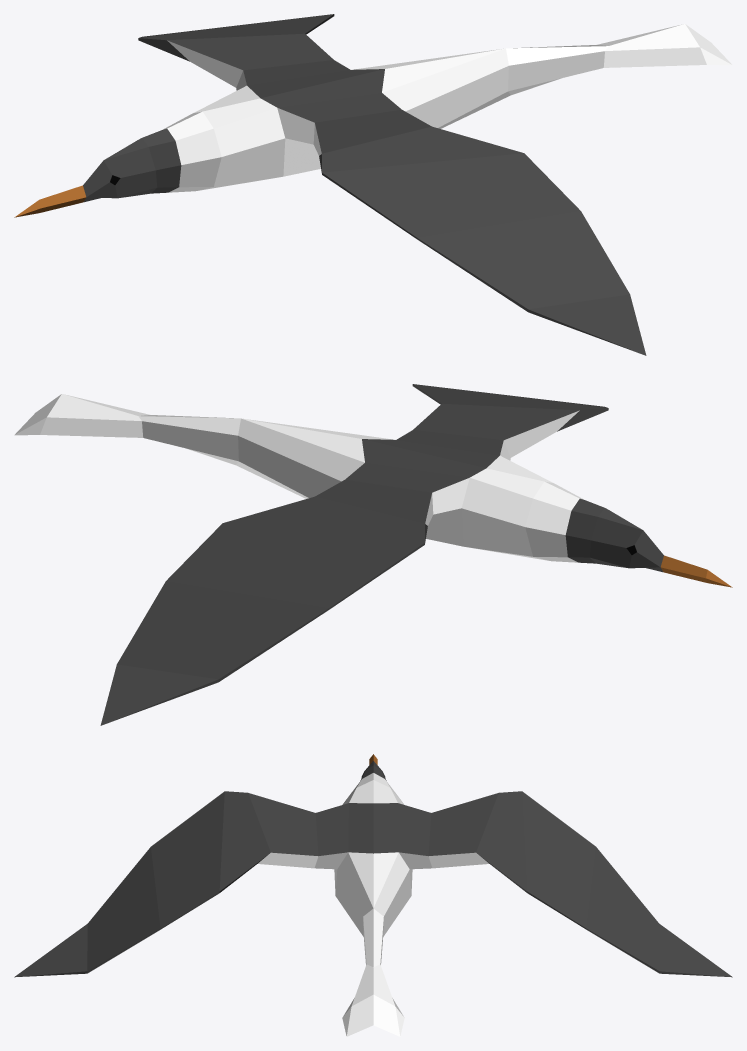
Rendered from bird1.fbx.
3 renders of one model, top to bottom at view 1: azimuth 30°, elevation 25°; view 2: azimuth 150°, elevation 25°; view 3: azimuth 270°, elevation 25°, orthographic. The views are drawn at different scales.
Visible parts, largest first — view 1: Bird1; view 2: Bird1; view 3: Bird1.
Part boxes in pixels (x1=…): Bird1: x1=14, y1=14, x2=732, y2=355; Bird1: x1=14, y1=384, x2=732, y2=725; Bird1: x1=14, y1=754, x2=732, y2=1036.
Bounding box in the file's own units: 122 × 23.2 × 133.
